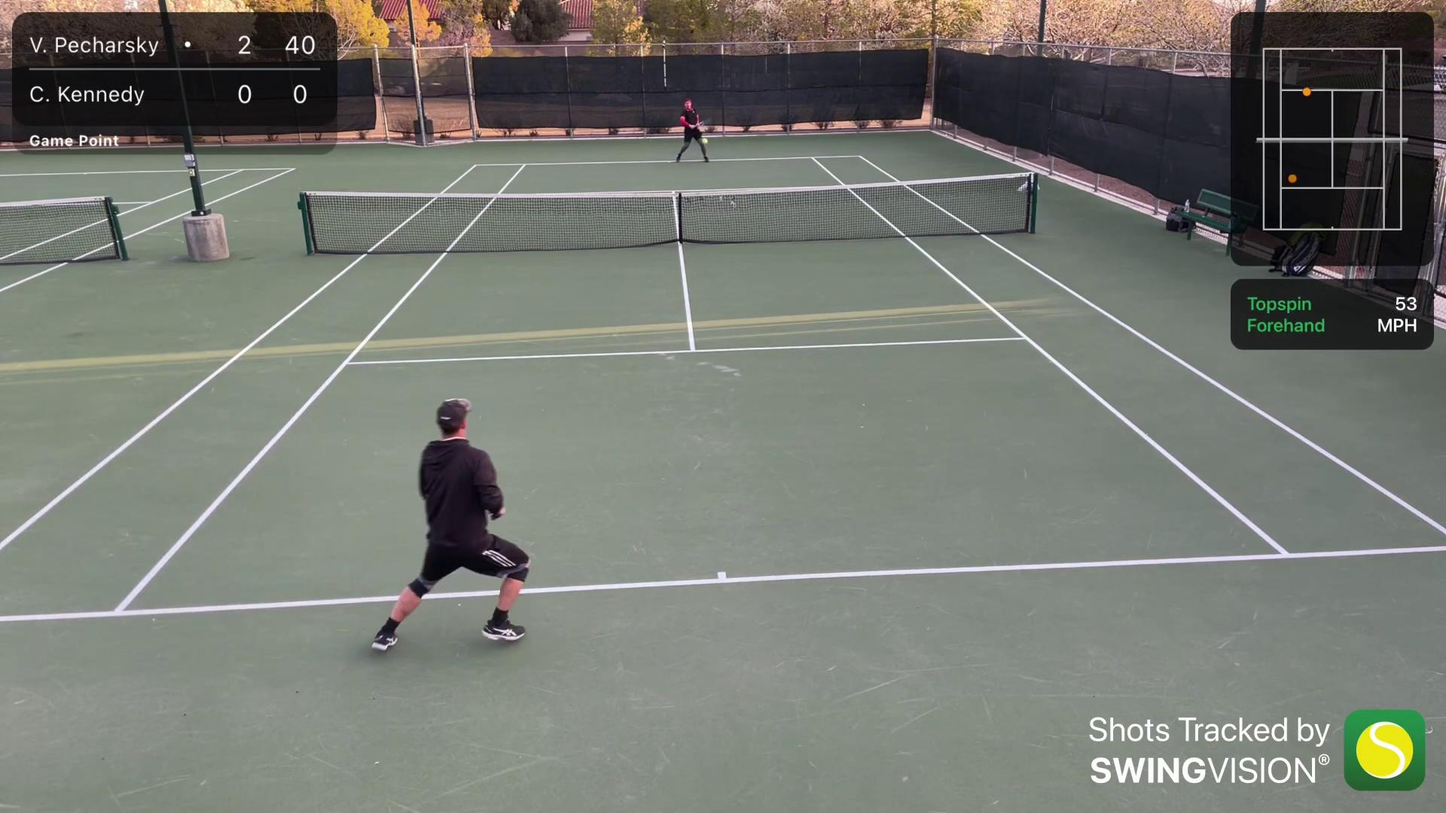ball: (700, 137, 709, 146)
